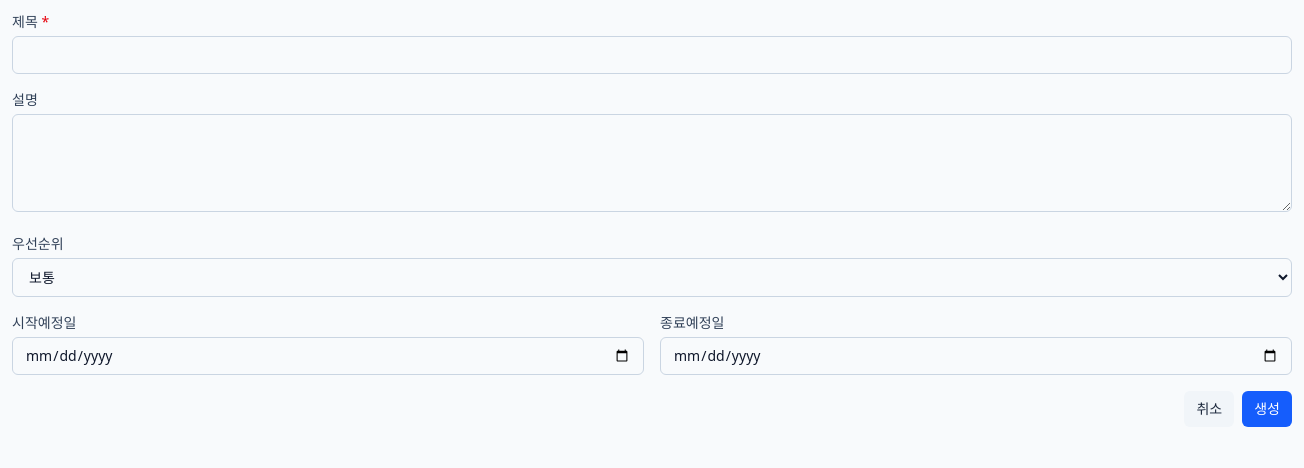
it: TicketForm (US-001, US-002) › 과거 종료예정일이면 에러 메시지를 보여준다
Type "할 일" into the field labelled "제목 *" at (652, 55), box [12,36,1292,74]
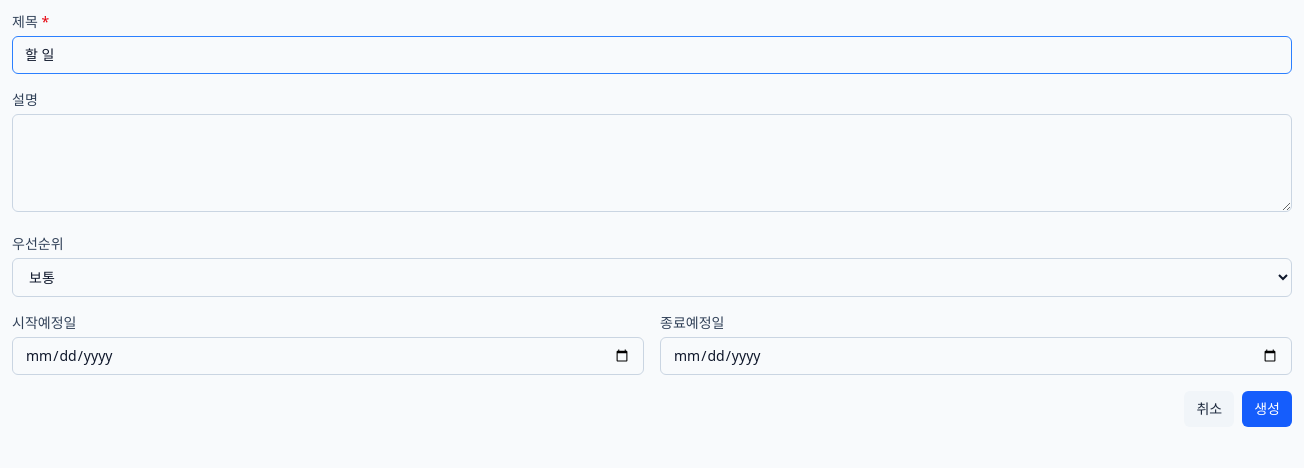
Type "2020-01-01" into the date field labelled "종료예정일" at (976, 356), box [660,337,1292,375]
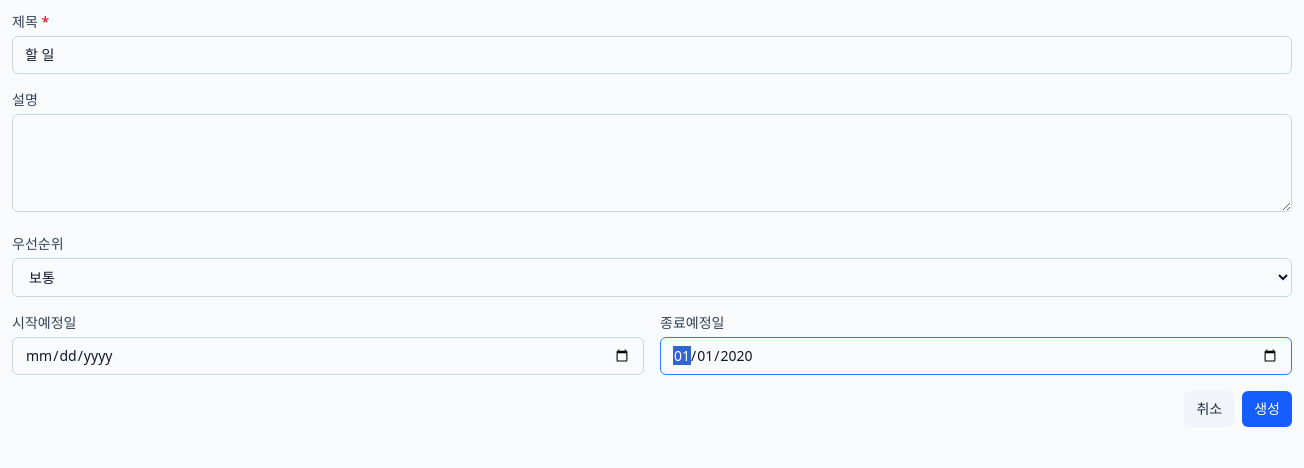
Click the button "생성" at (1267, 409), box [1242,391,1292,427]
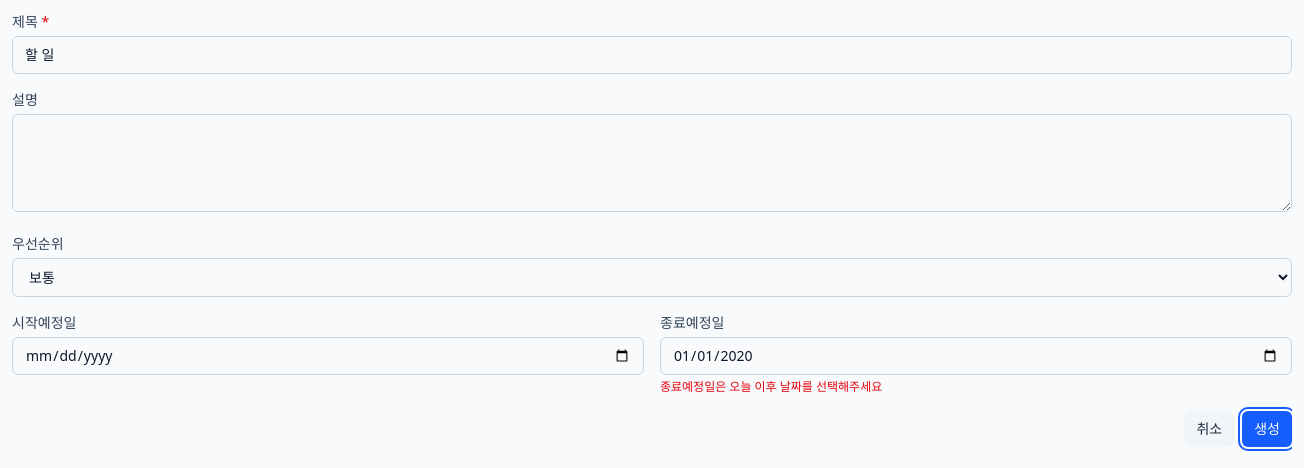
Expected: the message reads "종료예정일은 오늘 이후 날짜를 선택해주세요", [660,378,882,395]
